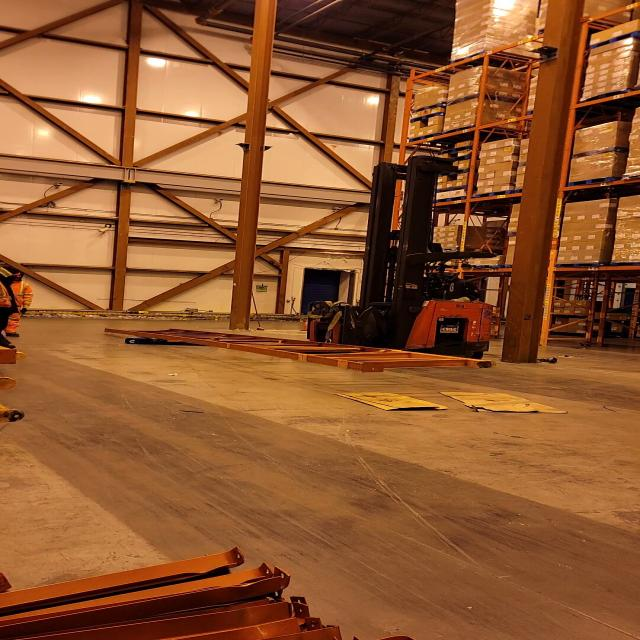forklift: (292, 161, 493, 367)
human: (397, 269, 489, 316), (7, 268, 34, 344), (0, 268, 13, 340)
objectofinterest: (96, 325, 502, 374), (438, 388, 568, 416), (329, 388, 449, 412), (122, 336, 212, 347)
